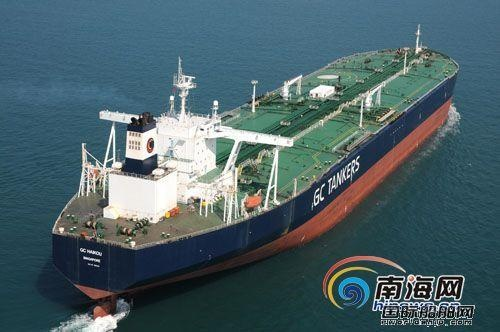Cargoship: (51, 19, 461, 306)
